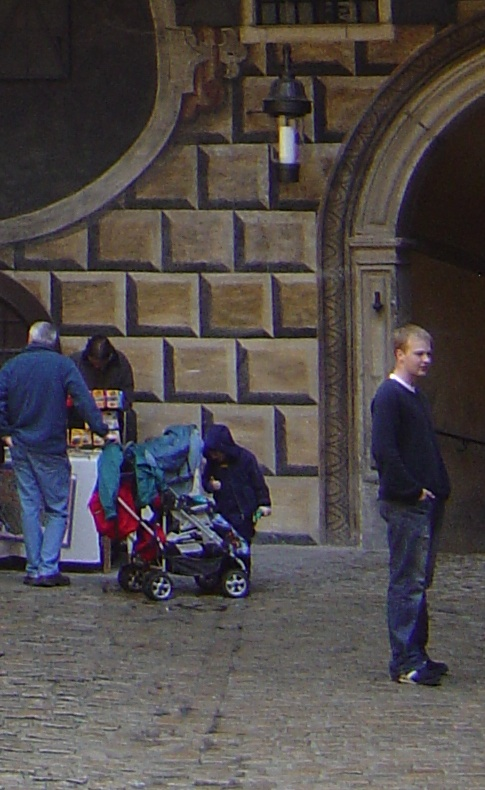person: (370, 320, 452, 691)
